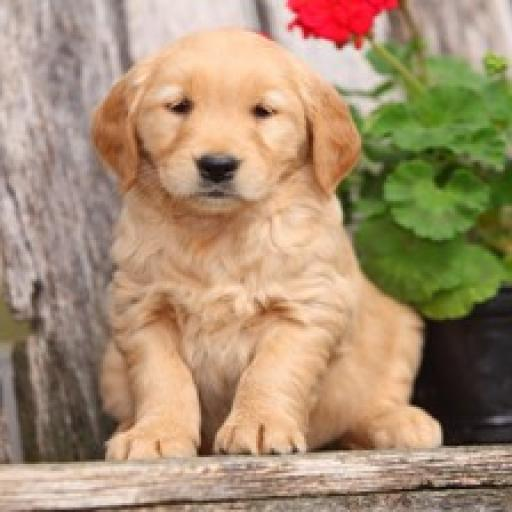dog: (75, 30, 450, 479)
